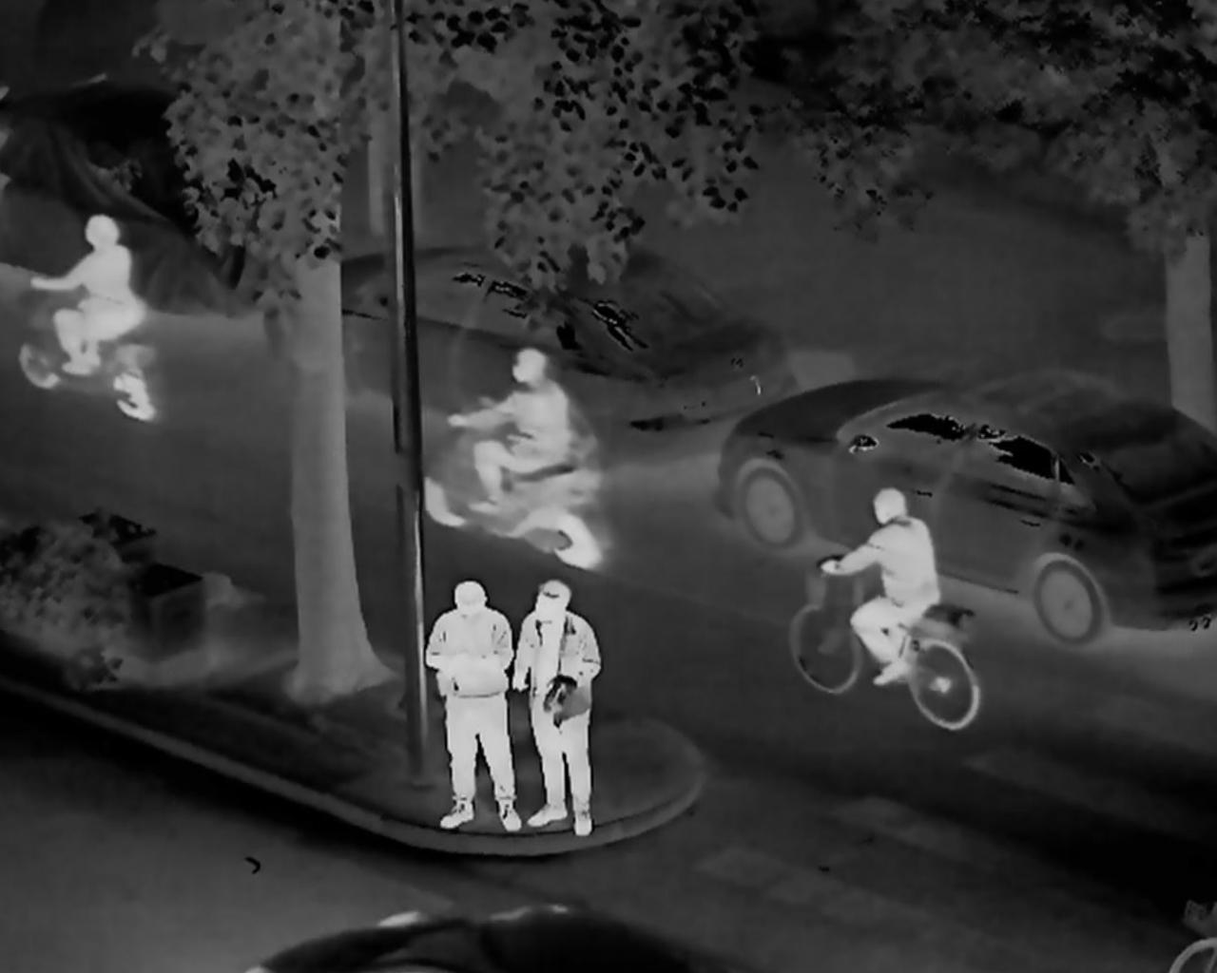person: (449, 328, 581, 558), (828, 474, 945, 729), (502, 575, 606, 850), (420, 578, 527, 827), (26, 208, 145, 410)
